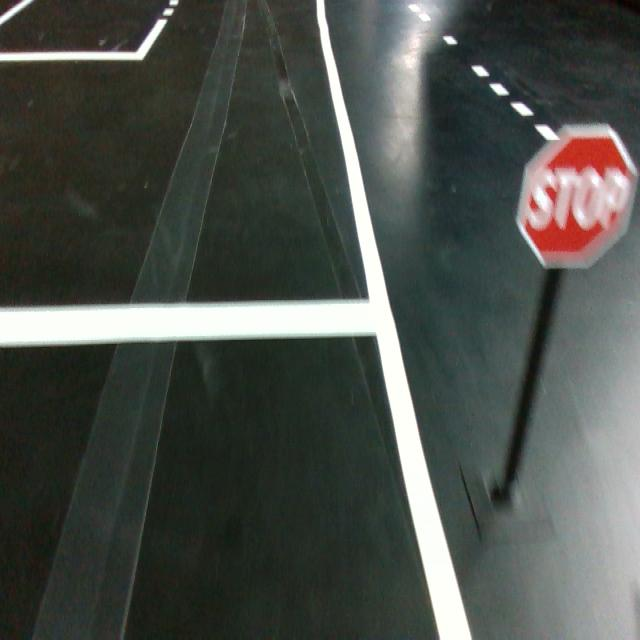stop-sign: (513, 121, 640, 271)
